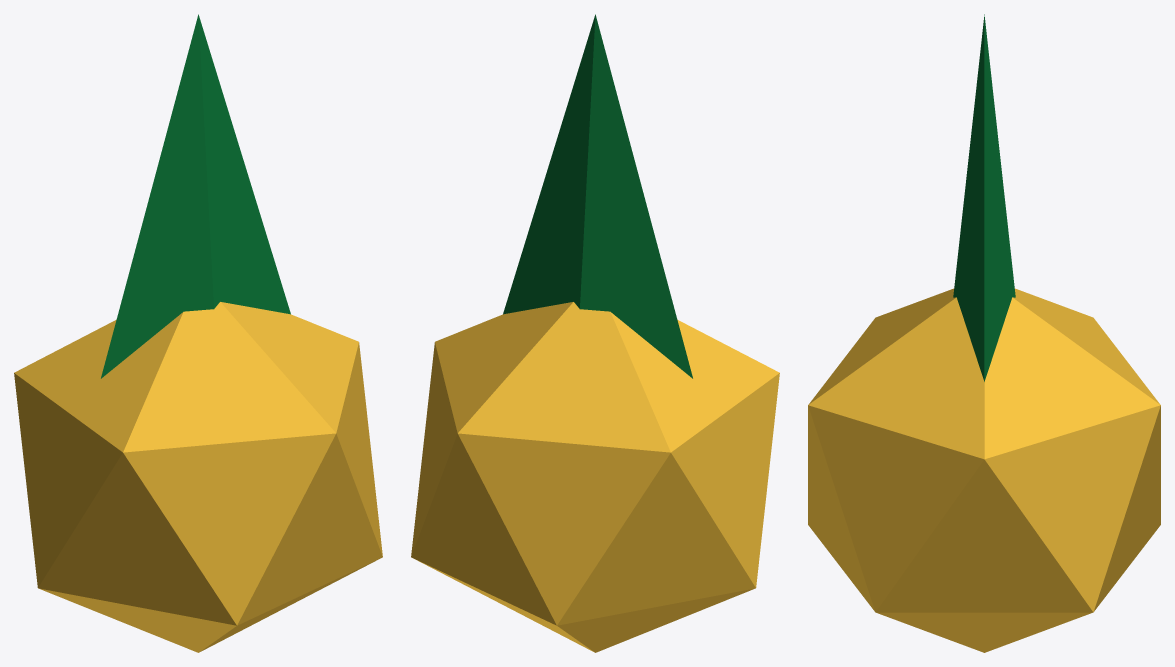
Rendered from Item_OR_Herb_03.glb.
3 renders of one model, left to right at view 1: azimuth 30°, elevation 25°; view 2: azimuth 150°, elevation 25°; view 3: azimuth 270°, elevation 25°, orthographic.
Visible parts, largest first — view 1: Item_OR_Herb_03; view 2: Item_OR_Herb_03; view 3: Item_OR_Herb_03.
Boxes of the visible parts, x1,y1,x2,y2 form: Item_OR_Herb_03: (14,14,382,652); Item_OR_Herb_03: (411,14,779,652); Item_OR_Herb_03: (808,14,1160,652).
Bounding box in the file's own units: 0.0894 × 0.17 × 0.0851.
